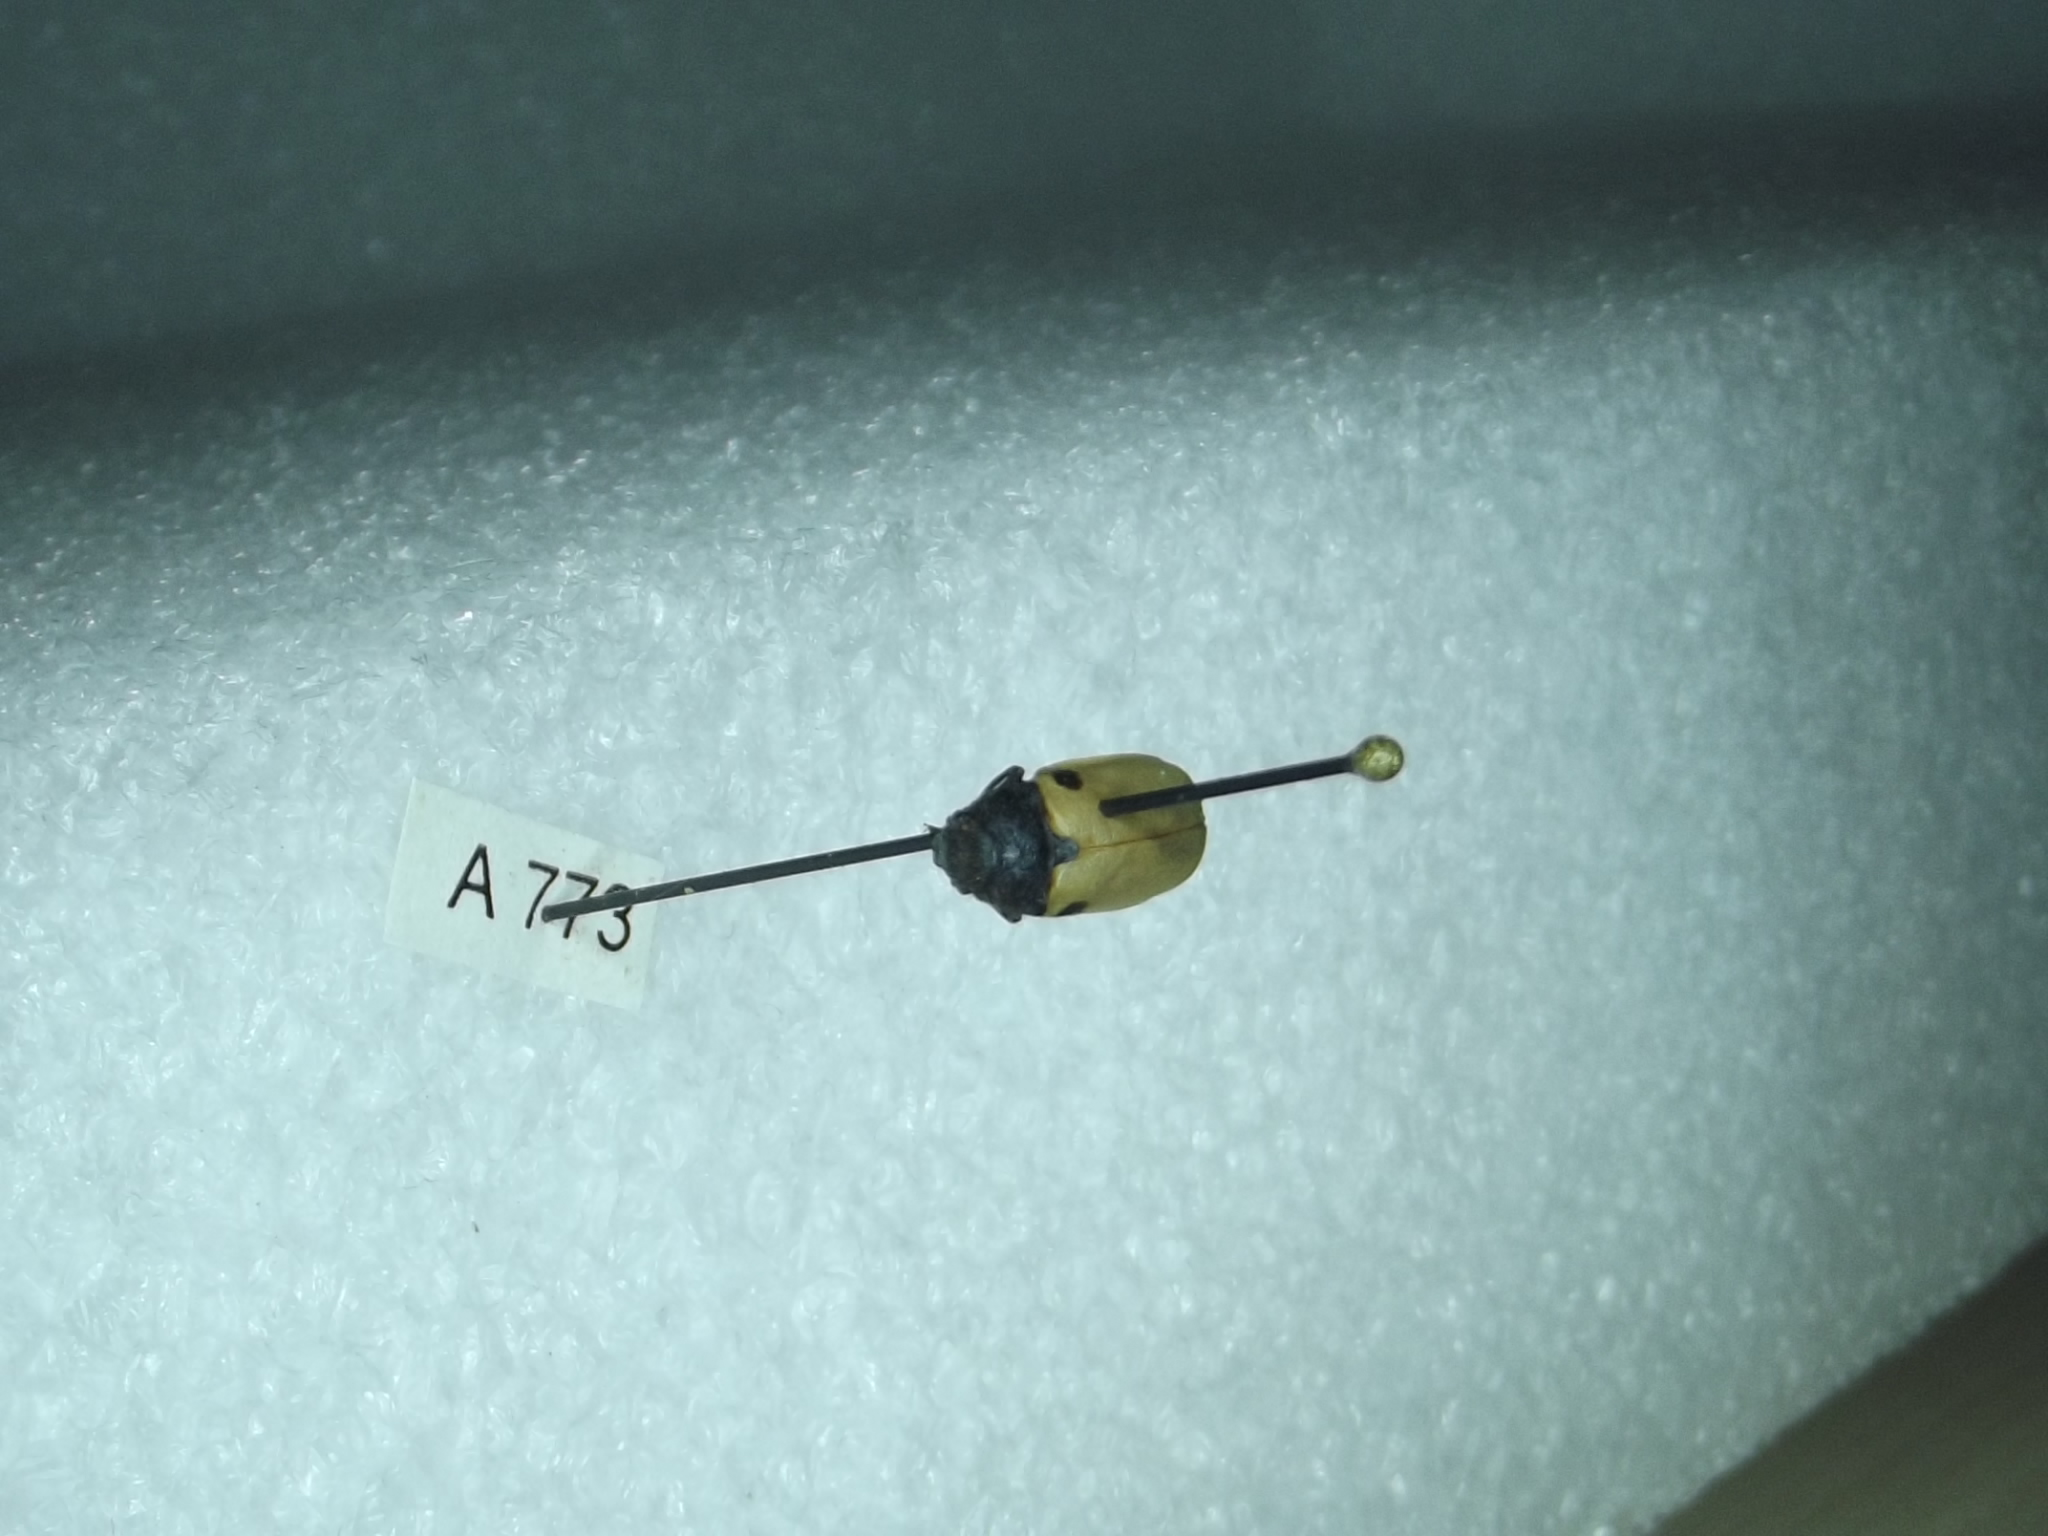Labidostomis_propinqua: (932, 744, 1218, 933)
